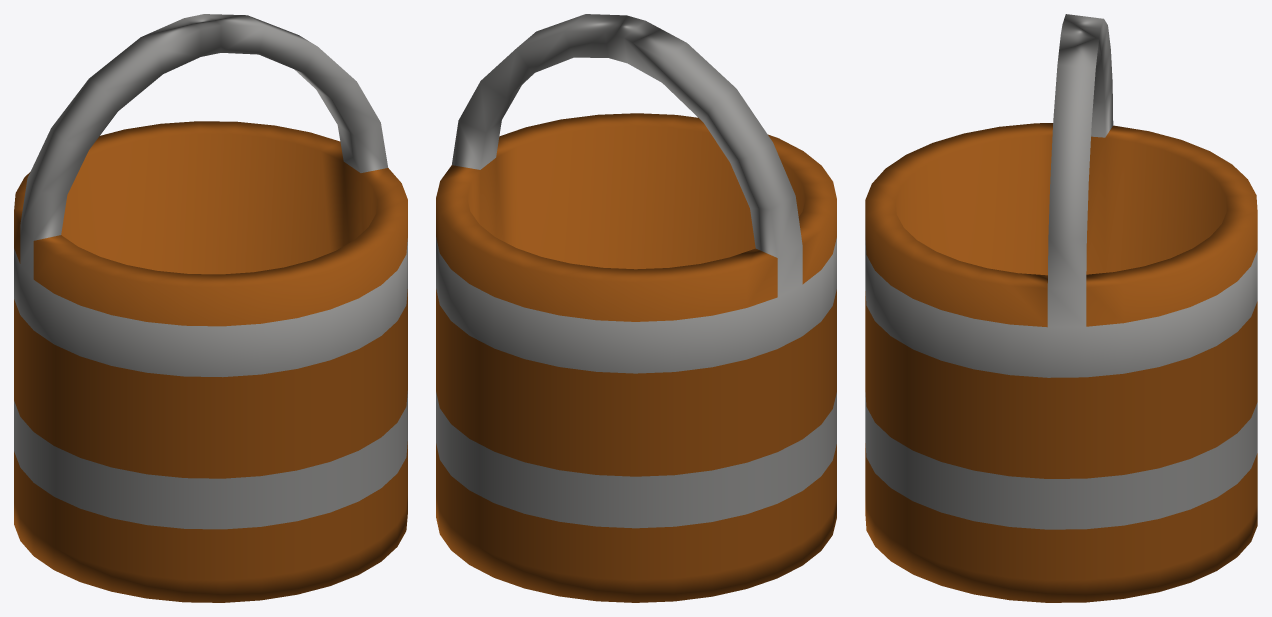
File: BukcetEmpty.fbx
3 views of the same model, side by side, from view 1: azimuth 30°, elevation 25°; view 2: azimuth 150°, elevation 25°; view 3: azimuth 270°, elevation 25° (orthographic).
Parts seen in each view (by area): view 1: BucketNoWater; view 2: BucketNoWater; view 3: BucketNoWater.
Part boxes in pixels (left/top/right/bottom): BucketNoWater: left=14, top=14, right=407, bottom=602; BucketNoWater: left=436, top=14, right=836, bottom=602; BucketNoWater: left=865, top=14, right=1257, bottom=602.
Bounding box in the file's own units: 63.51 × 63.51 × 87.72.
